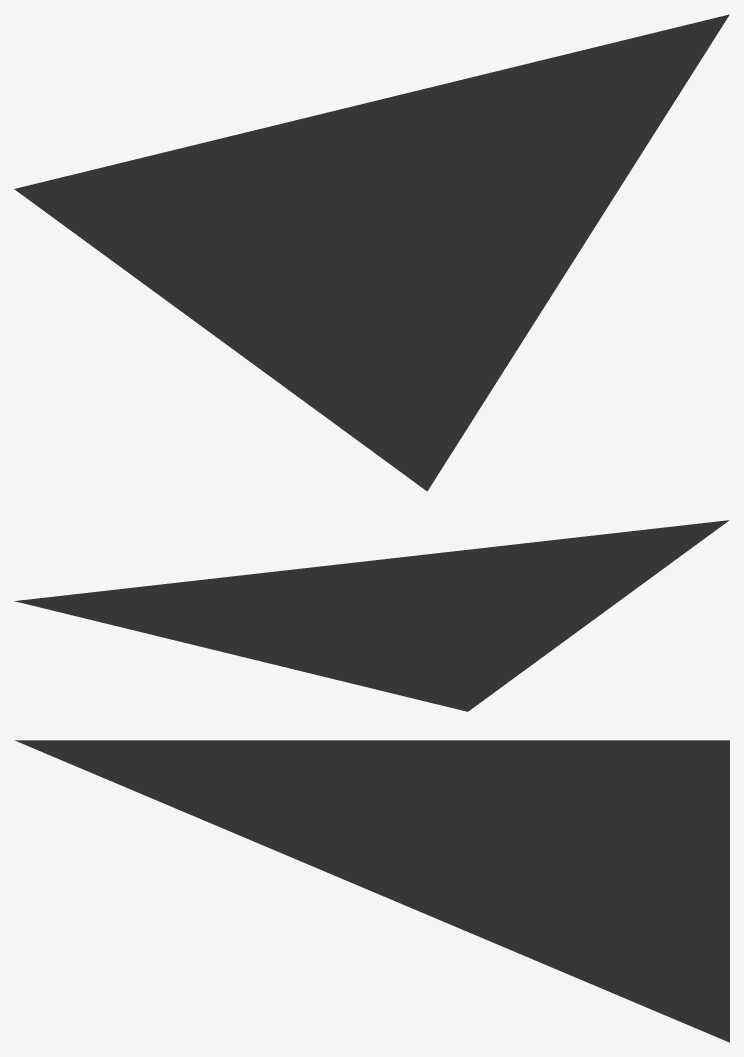
The model's file is mats.glb.
3 views of the same model, one above another, from view 1: azimuth 30°, elevation 25°; view 2: azimuth 150°, elevation 25°; view 3: azimuth 270°, elevation 25° (orthographic). The views are drawn at different scales.
Visible parts, largest first — view 1: Traffic light_Traffic light_ICity_Default.001_Baked; view 2: Traffic light_Traffic light_ICity_Default.001_Baked; view 3: Traffic light_Traffic light_ICity_Default.001_Baked.
Part boxes in pixels (box(x1,y1,x2,y2)): Traffic light_Traffic light_ICity_Default.001_Baked: box(14, 14, 729, 491); Traffic light_Traffic light_ICity_Default.001_Baked: box(14, 520, 729, 711); Traffic light_Traffic light_ICity_Default.001_Baked: box(15, 740, 729, 1042).
Bounding box in the file's own units: 0.001 × 0 × 0.001.
243 materials, 209 textured.
